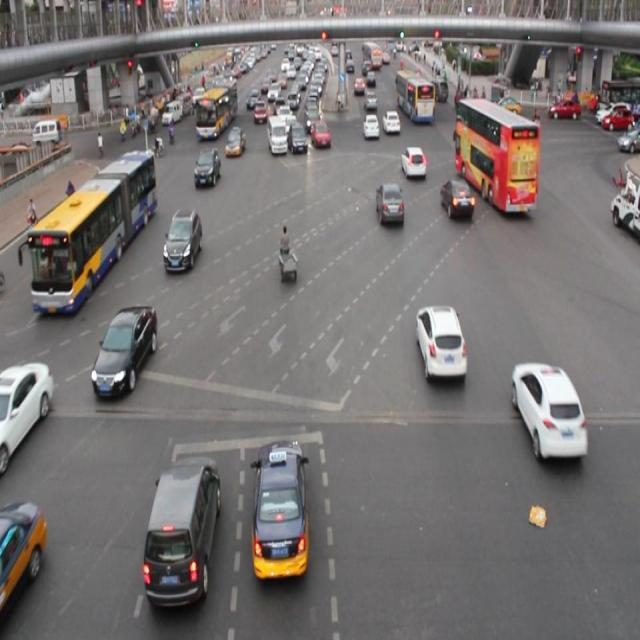car: (250, 436, 310, 584), (511, 364, 586, 460), (1, 361, 54, 472), (93, 308, 159, 395), (0, 497, 42, 625), (416, 304, 466, 380), (163, 210, 202, 274), (440, 175, 473, 223), (376, 183, 406, 231), (193, 147, 221, 188), (400, 142, 426, 180), (224, 125, 247, 158), (288, 123, 309, 157), (310, 118, 331, 150), (362, 113, 379, 141), (382, 110, 400, 134)
truck: (142, 455, 220, 607), (266, 117, 288, 157)
van: (31, 148, 151, 308), (456, 100, 535, 214), (196, 78, 236, 140)
